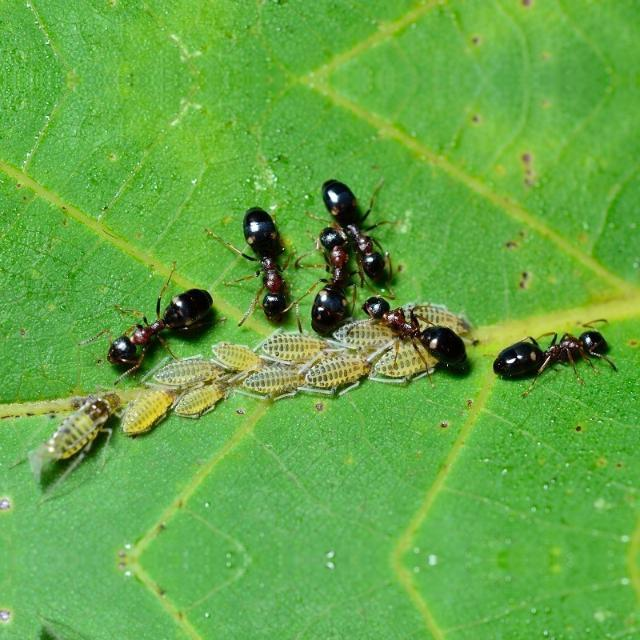Dolichoderus: (88, 278, 224, 378), (214, 205, 304, 332), (480, 318, 626, 396), (348, 288, 474, 372), (314, 172, 406, 282), (292, 213, 358, 334)
